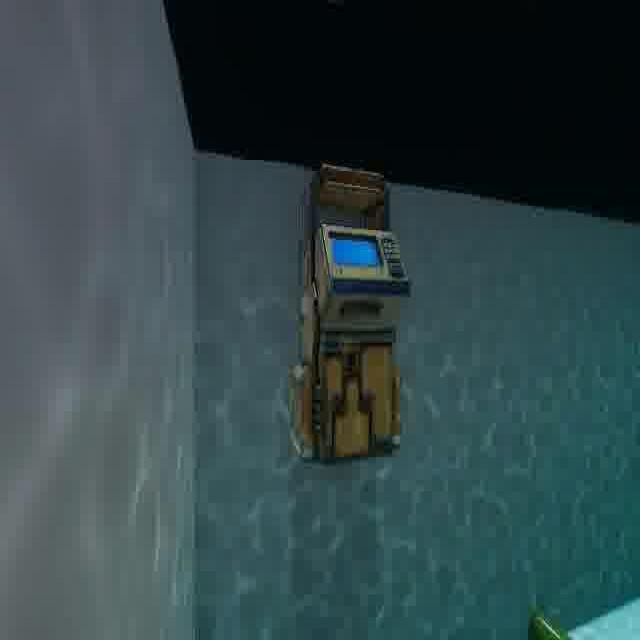Control Panel: (281, 150, 419, 478)
